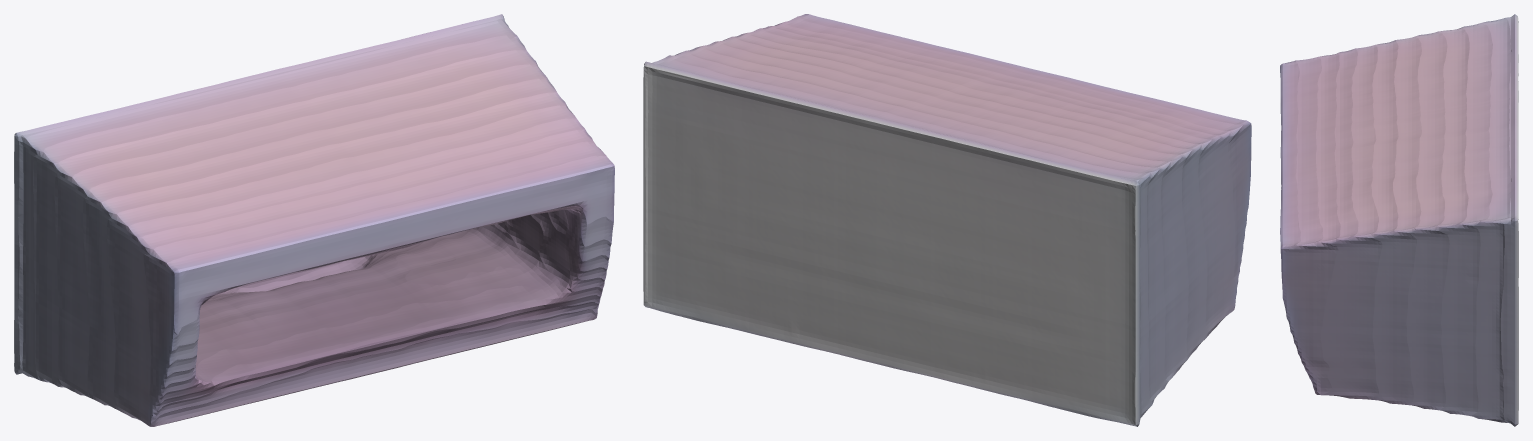
The model's file is 20251031T154707Z_ShapE_8e8a0fa0bbfc.glb.
The picture shows the model from 3 angles, left to right: view 1: azimuth 30°, elevation 25°; view 2: azimuth 150°, elevation 25°; view 3: azimuth 270°, elevation 25°; orthographic projection. The views are drawn at different scales.
Visible parts, largest first — view 1: model.ply; view 2: model.ply; view 3: model.ply.
Part boxes in pixels (x1,y1,x2,y2): model.ply: [14, 14, 614, 426]; model.ply: [643, 14, 1251, 426]; model.ply: [1280, 14, 1518, 426].
Bounding box in the file's own units: 1.98 × 0.9424 × 0.9739.
